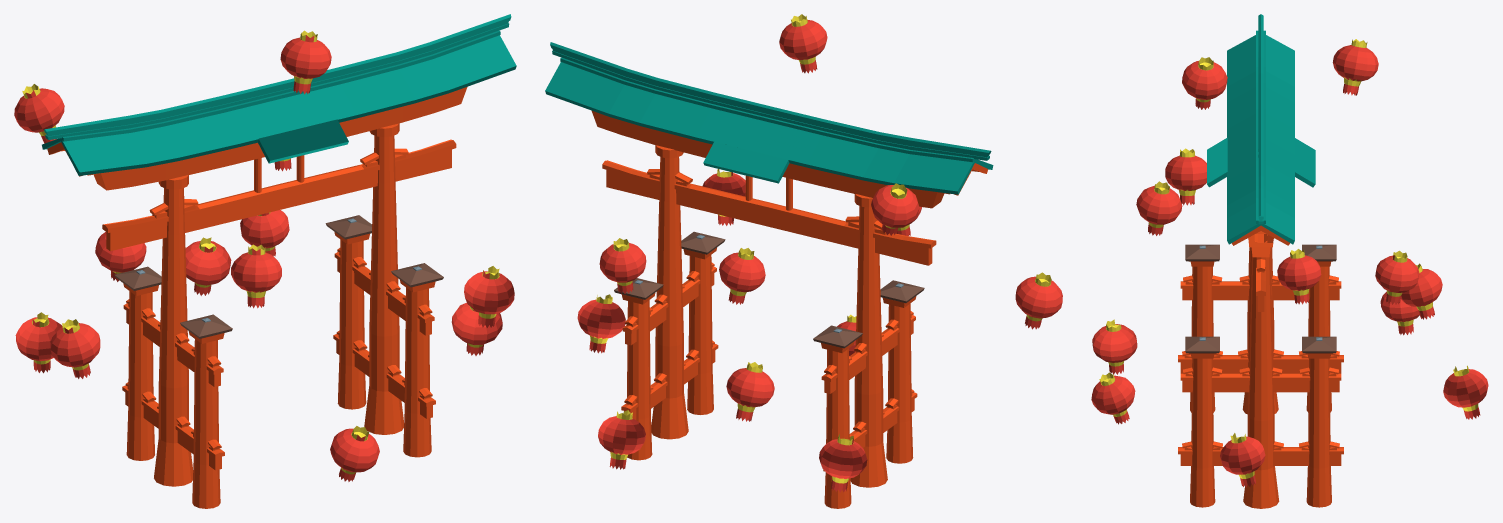
The model's file is Japanese Torii.glb.
3 views of the same model, side by side, from view 1: azimuth 30°, elevation 25°; view 2: azimuth 150°, elevation 25°; view 3: azimuth 270°, elevation 25° (orthographic). The views are drawn at different scales.
Visible parts, largest first — view 1: group674213820, group2112404912, group2102673328, group1663585988, group1582756720, group1986319060, group679819663, group828070390, group1738134039, group1771167811, group711260887, group1696188762 (+10 smaller); view 2: group674213820, group2112404912, group2102673328, group1663585988, group1582756720, group1986319060, group679819663, group1562799948, group1771167811, group1190821758, group711260887, group1880701193 (+9 smaller); view 3: group674213820, group2112404912, group2102673328, group1112741560, group1738134039, group1582756720, group1771167811, group1696188762, group1880701193, group1342856348, group711260887, group467616785 (+11 smaller).
Part boxes in pixels (x1,y1,x2,y2): group674213820: [277, 123, 456, 457]; group2112404912: [42, 82, 297, 190]; group2102673328: [280, 14, 516, 136]; group1663585988: [154, 188, 193, 486]; group1582756720: [192, 339, 220, 508]; group1986319060: [126, 291, 154, 460]; group679819663: [106, 193, 280, 251]; group828070390: [258, 119, 348, 163]; group1738134039: [231, 244, 281, 308]; group1771167811: [280, 30, 331, 94]; group711260887: [50, 319, 100, 378]; group1696188762: [464, 266, 514, 327]; group674213820: [602, 145, 770, 460]; group2112404912: [751, 106, 993, 208]; group2102673328: [545, 42, 768, 157]; group1663585988: [850, 206, 887, 487]; group1582756720: [886, 303, 913, 463]; group1986319060: [824, 348, 851, 508]; group679819663: [767, 211, 932, 265]; group1562799948: [703, 142, 789, 183]; group1771167811: [779, 14, 827, 73]; group1190821758: [726, 362, 774, 421]; group711260887: [1015, 272, 1062, 329]; group1880701193: [598, 410, 645, 469]; group674213820: [1178, 238, 1343, 508]; group2112404912: [1227, 14, 1294, 154]; group2102673328: [1227, 125, 1294, 257]; group1112741560: [1332, 39, 1378, 95]; group1738134039: [1136, 181, 1182, 235]; group1582756720: [1190, 266, 1215, 412]; group1771167811: [1182, 57, 1227, 109]; group1696188762: [1092, 319, 1137, 374]; group1880701193: [1443, 365, 1488, 419]; group1342856348: [1220, 433, 1265, 487]; group711260887: [1165, 148, 1206, 205]; group467616785: [1277, 249, 1321, 304].
Size of the model in its own units: 6.06 by 5.17 by 4.69.
